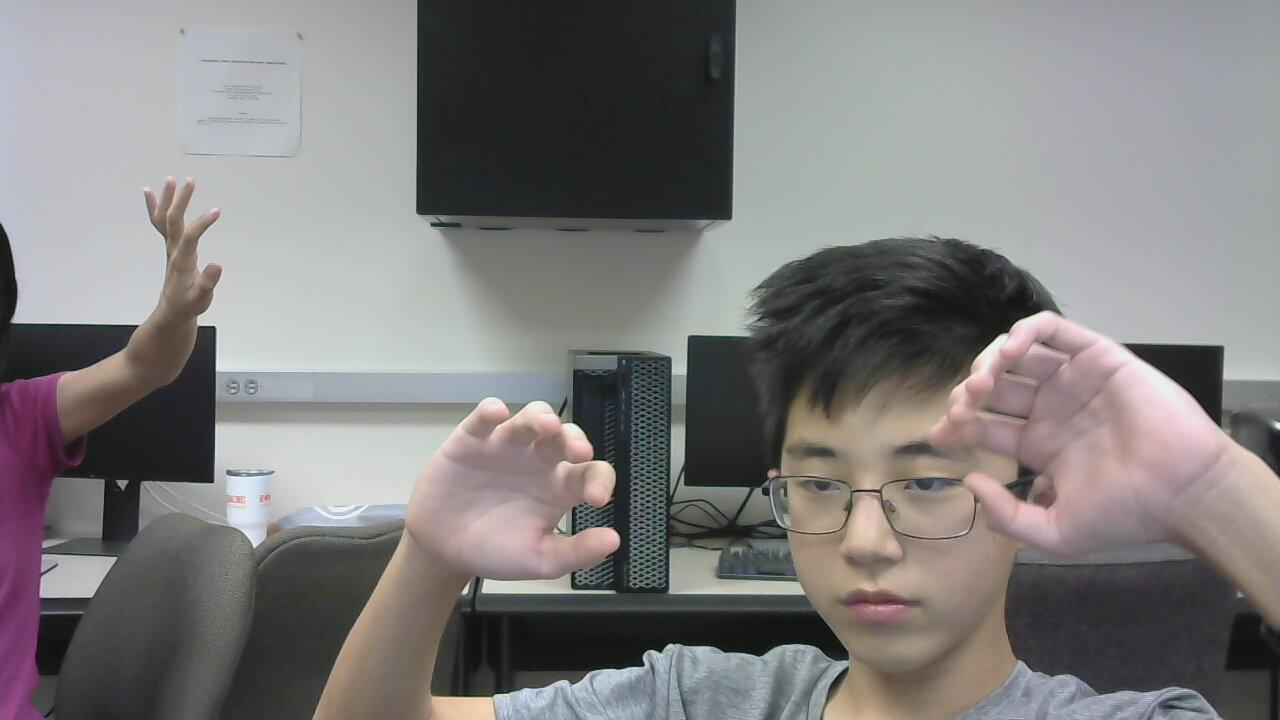hands: (938, 300, 1184, 554), (366, 379, 627, 580), (132, 172, 231, 329)
